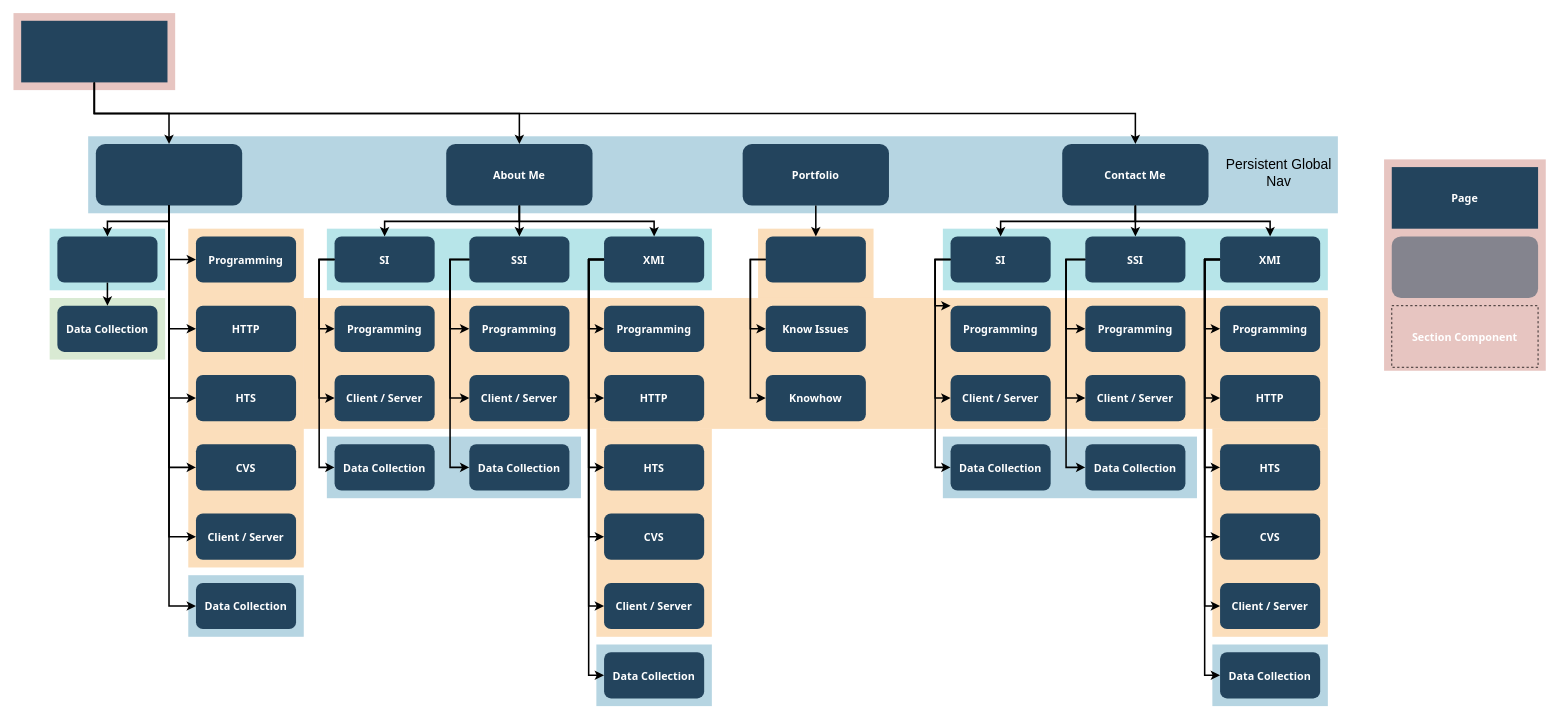
Some shapes in this 1558 by 719 pixel diagram are drawn without their labels. Each missing label, with the centre of its shape:
"FAQ" goes at point (815, 259).
"Home" goes at point (94, 51).
"Landing" goes at point (168, 174).
"Regular Report" goes at point (107, 259).
"Section" goes at point (1464, 267).
